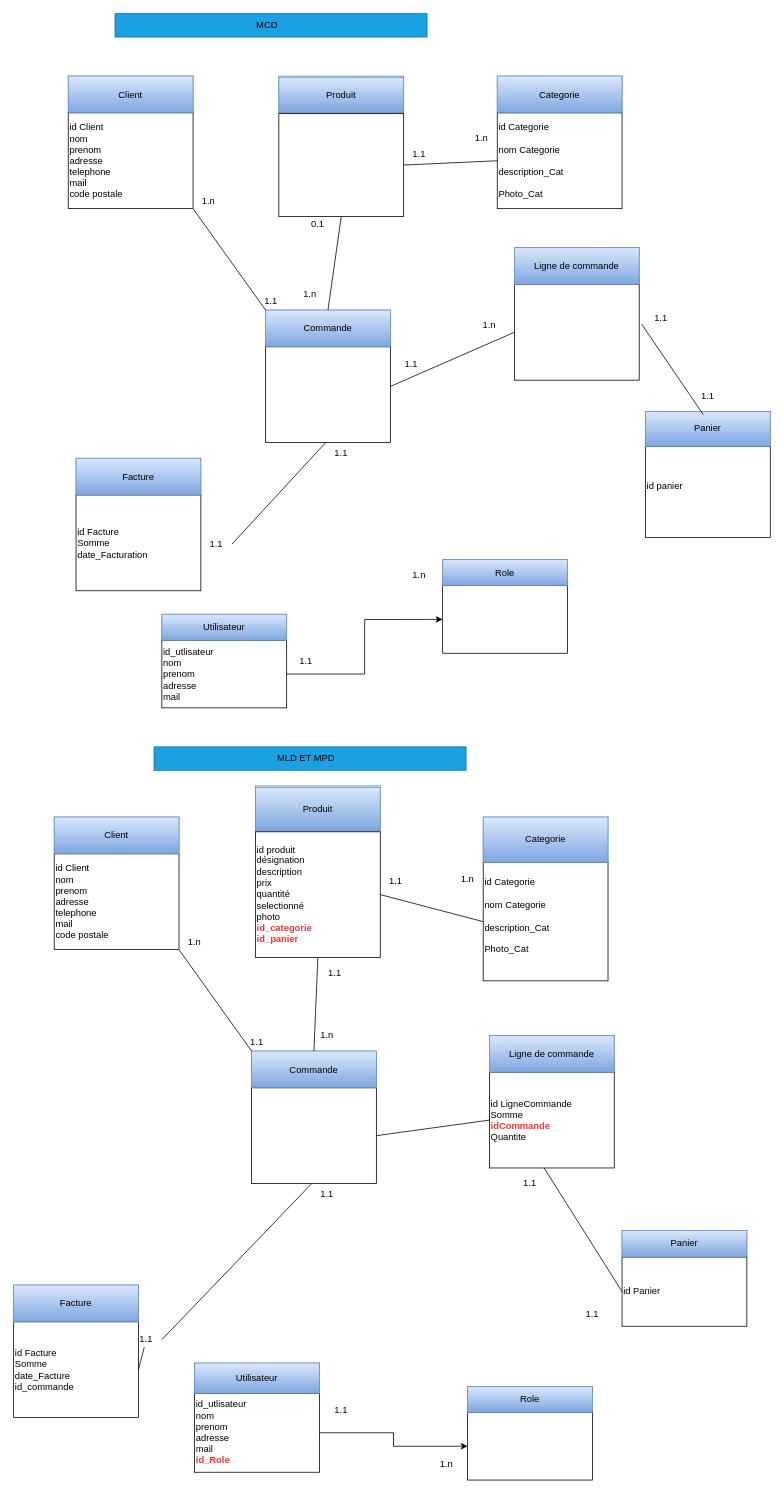
The diagram is 784 pixels wide and 1494 high, and some of its shapes have lost their labels. The shapes that lost their labels are listed below. From the top down, each one's centre as x and y in pixels, then its label:
At point (341, 164): "id produit désignation description prix quantité selectionné photo".
At point (576, 332): "id LigneCommande Somme Quantite".
At point (327, 394): "id Commande date_commande".
At point (504, 619): "id_Role nomRole".
At point (313, 1135): "id Commande date_commande id_client".
At point (529, 1446): "id_Role".
